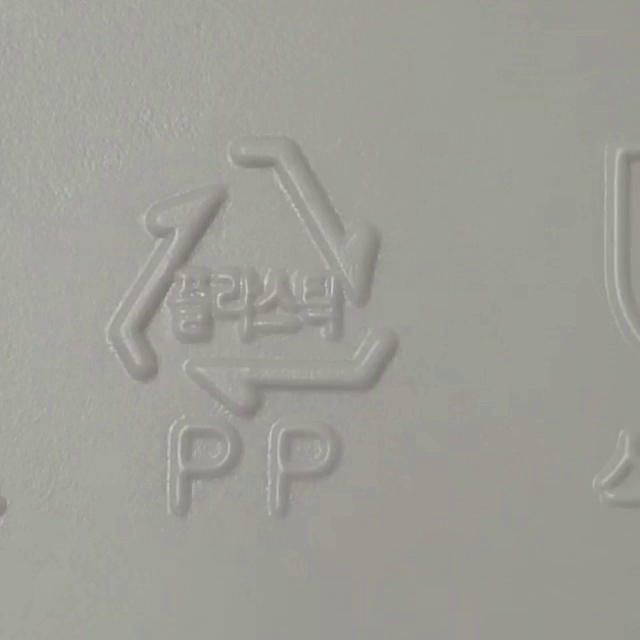Plastic: (110, 138, 401, 416)
